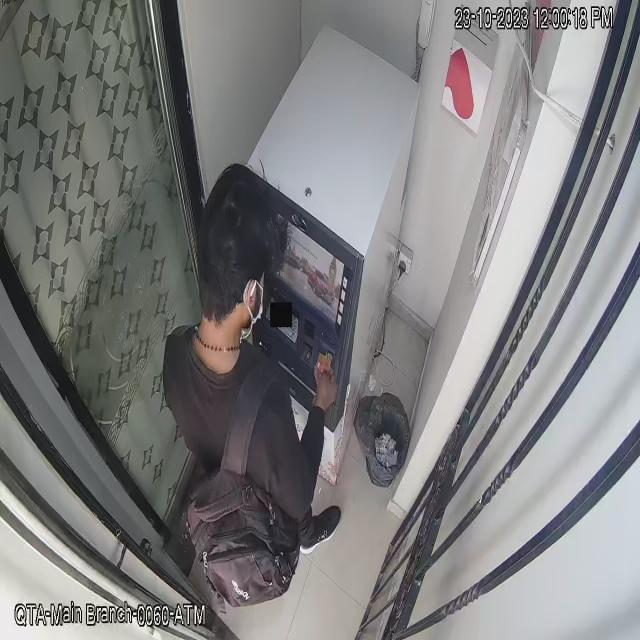atm-card: (311, 345, 337, 382)
